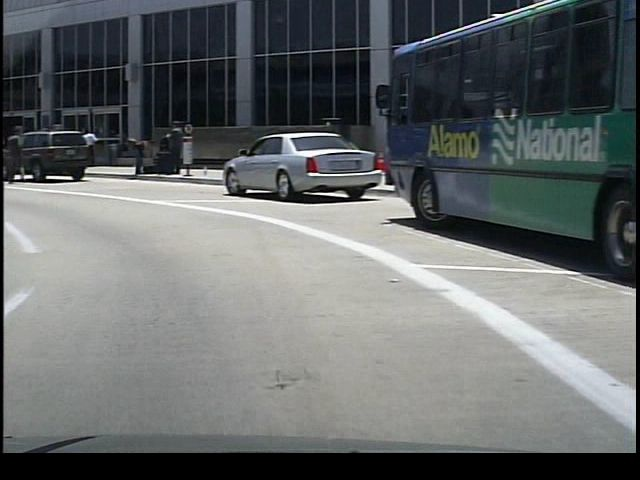person: (2, 118, 31, 192), (122, 129, 151, 183), (159, 121, 180, 176), (77, 126, 97, 167)
